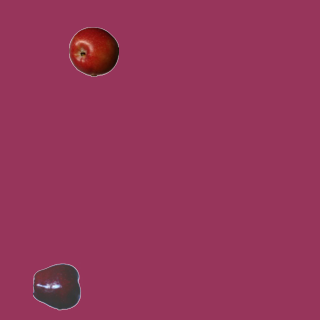Apple Braeburn: (68, 26, 118, 76)
Apple Red Delicious: (32, 261, 82, 311)
